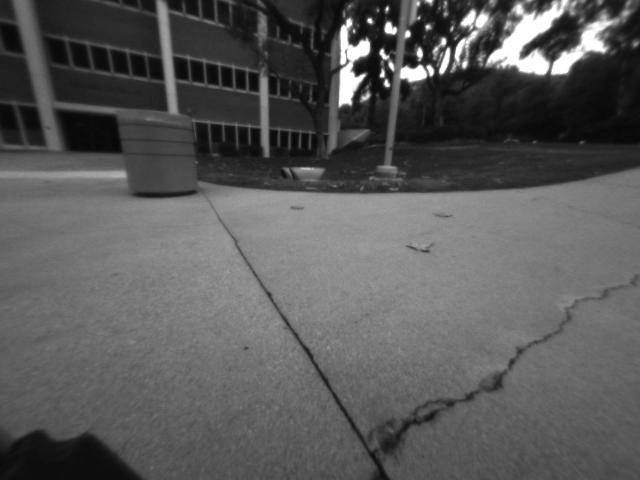trashcan: (106, 101, 205, 207)
